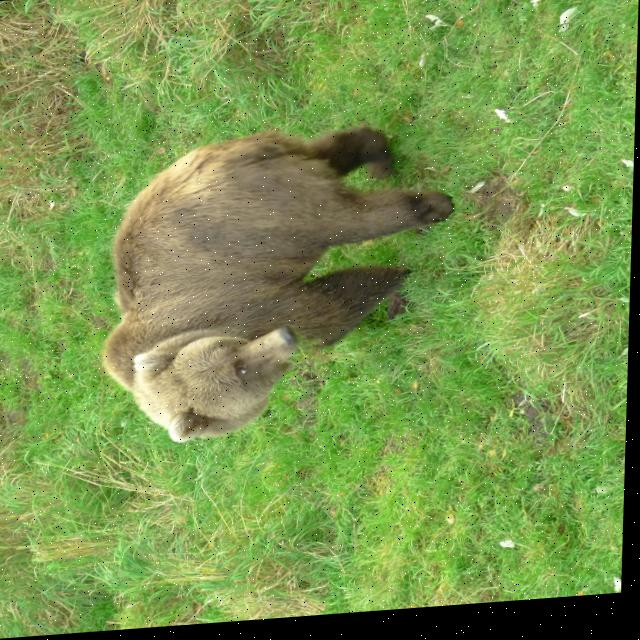bear face: (103, 127, 451, 448)
